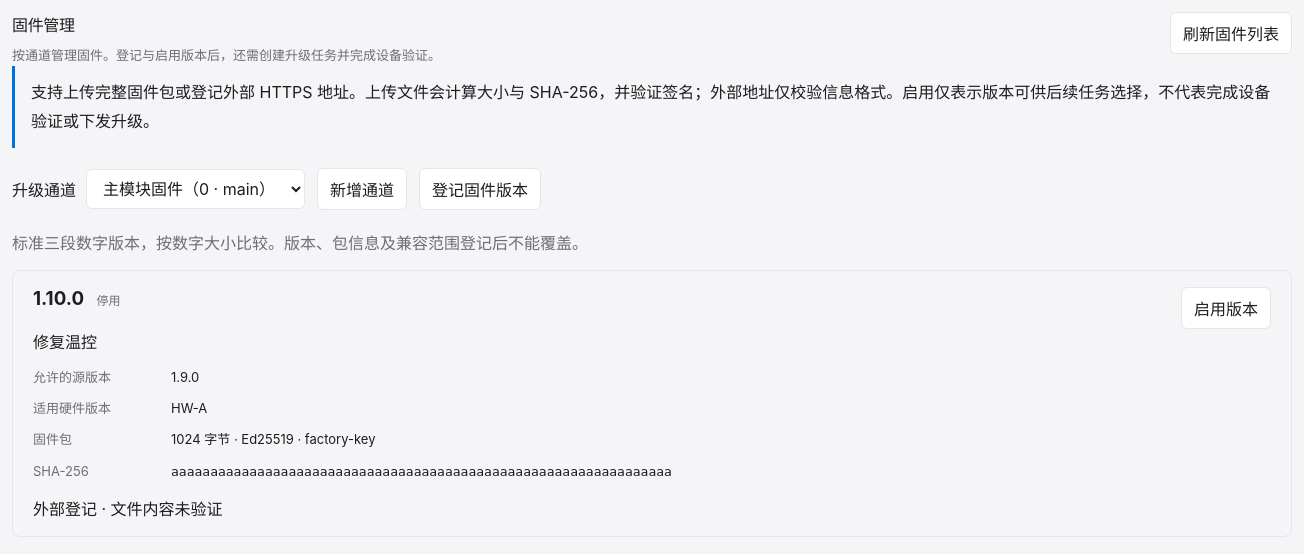
Test case: loads real channel inventory and uses the version revision for enabling
Click the button "启用版本". click: click(1226, 308)
box: [1181,287,1271,329]
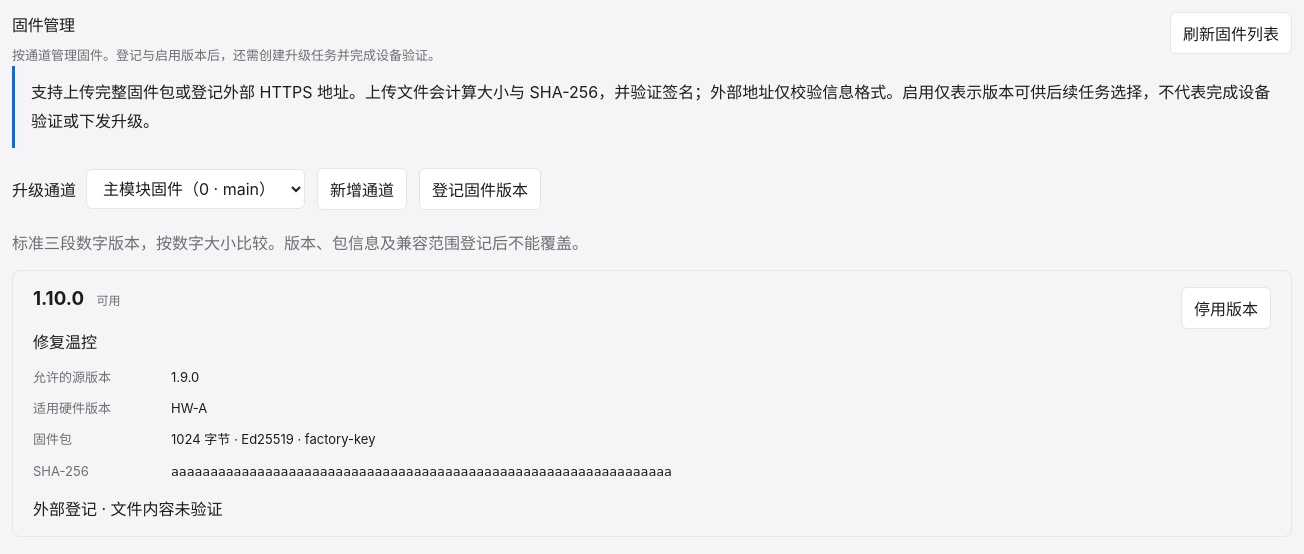
Now the text "可用" is shown, box [96,293,120,308]
